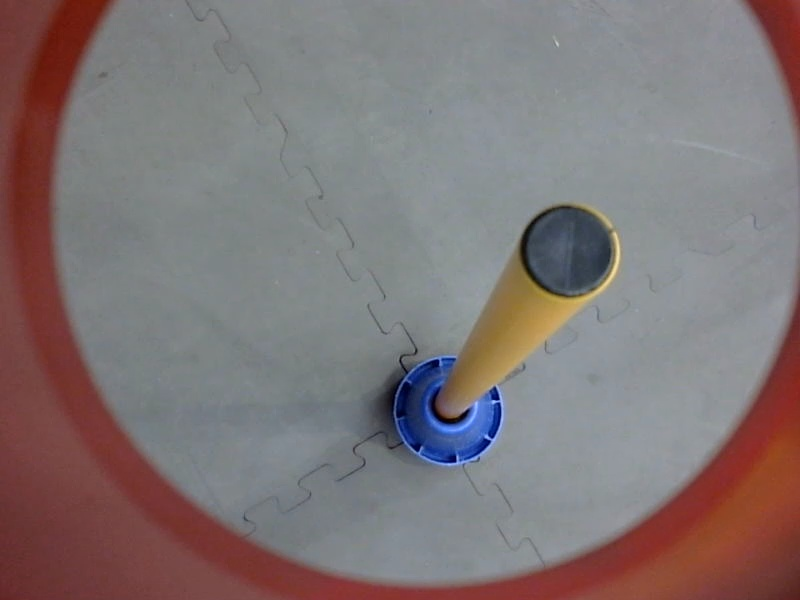tip: (510, 196, 628, 305)
